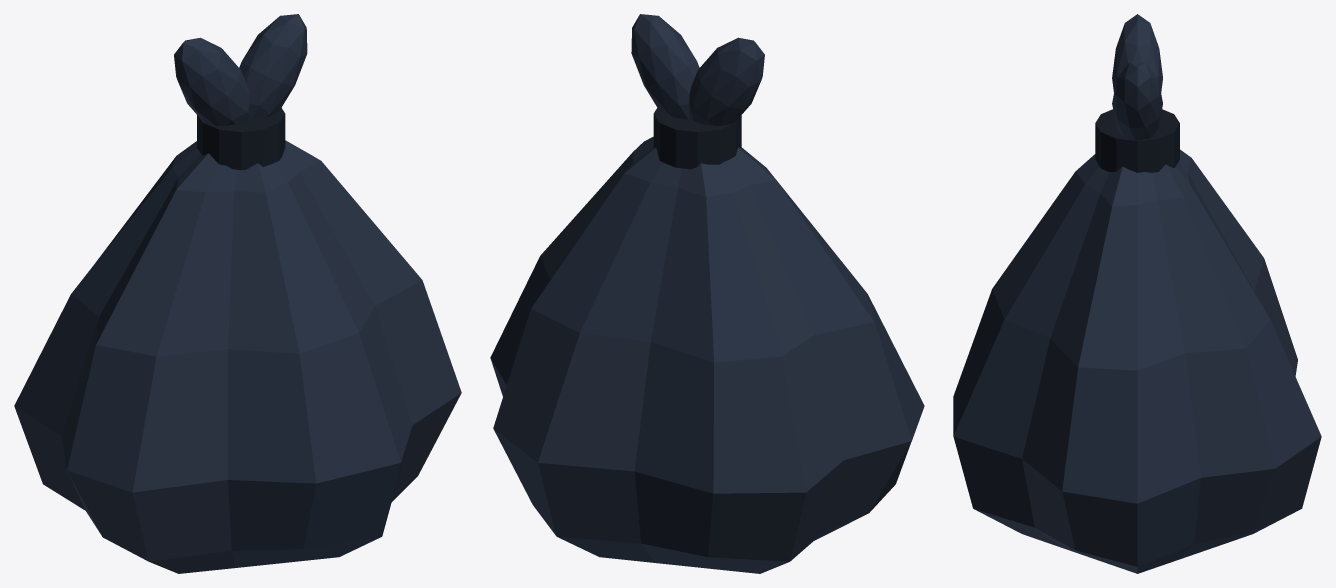
The model's file is tied-trash-bag.glb.
3 renders of one model, left to right at view 1: azimuth 30°, elevation 25°; view 2: azimuth 150°, elevation 25°; view 3: azimuth 270°, elevation 25°, orthographic. The views are drawn at different scales.
Parts seen in each view (by area): view 1: Folded_sack, Tied_end, Tied_end.001, Knot; view 2: Folded_sack, Tied_end, Tied_end.001, Knot; view 3: Folded_sack, Knot, Tied_end.001, Tied_end.
Part boxes in pixels (bbox=[...]): Folded_sack: bbox=[14, 140, 461, 573]; Tied_end: bbox=[174, 37, 249, 125]; Tied_end.001: bbox=[239, 14, 307, 119]; Knot: bbox=[197, 108, 285, 170]; Folded_sack: bbox=[490, 136, 924, 573]; Tied_end: bbox=[689, 37, 764, 125]; Tied_end.001: bbox=[631, 14, 699, 119]; Knot: bbox=[653, 108, 741, 169]; Folded_sack: bbox=[953, 149, 1321, 573]; Knot: bbox=[1095, 109, 1179, 172]; Tied_end.001: bbox=[1112, 62, 1162, 140]; Tied_end: bbox=[1112, 14, 1162, 92].
Bounding box in the file's own units: 0.6629 × 0.7803 × 0.5481.
Materials: 1 (1 with a texture image).
